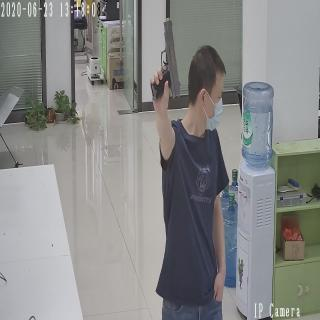gun: (149, 13, 181, 104)
